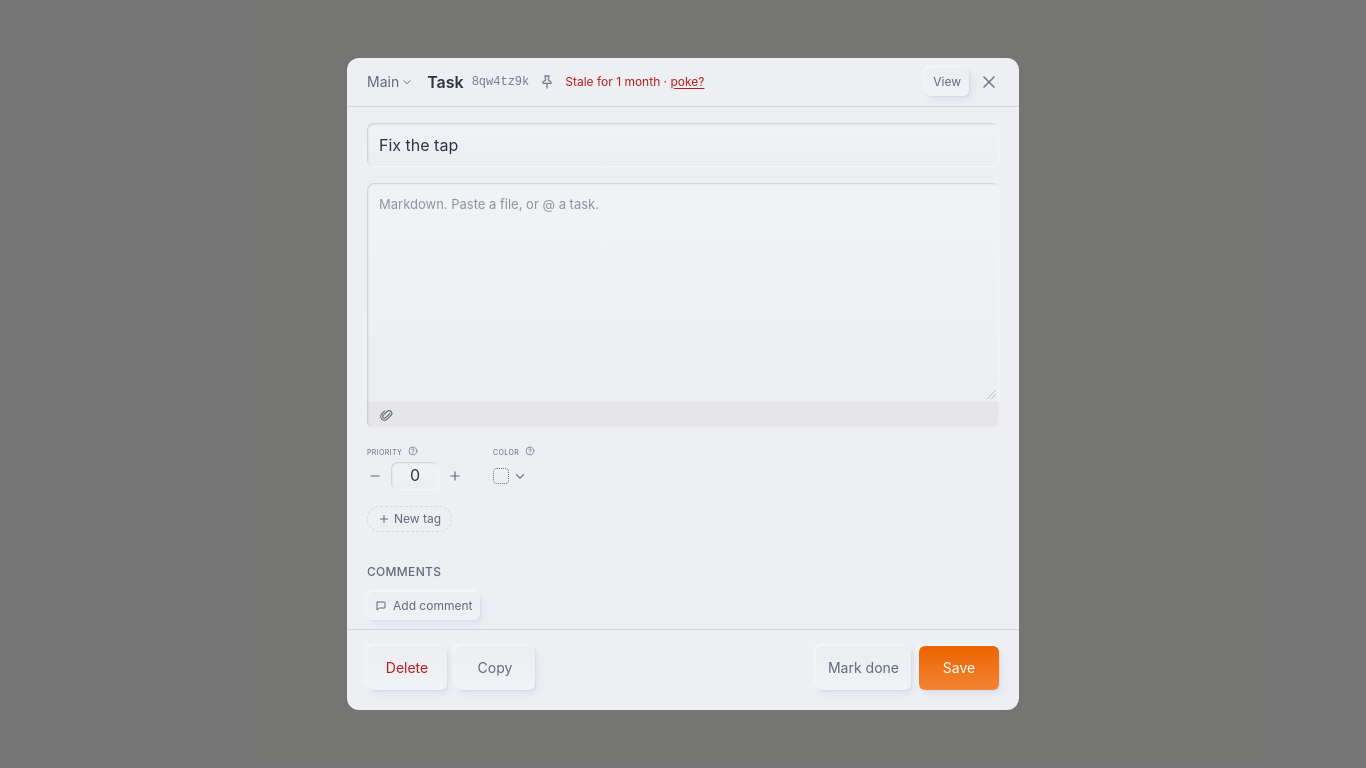
moving a task › says what a move does, where the move is chosen
Check: the text box with placeholder "Markdown. Paste a file, or @ a task." is shown, box [367,183,999,402]
Click the button "Main": (390, 82) [361,70,419,94]
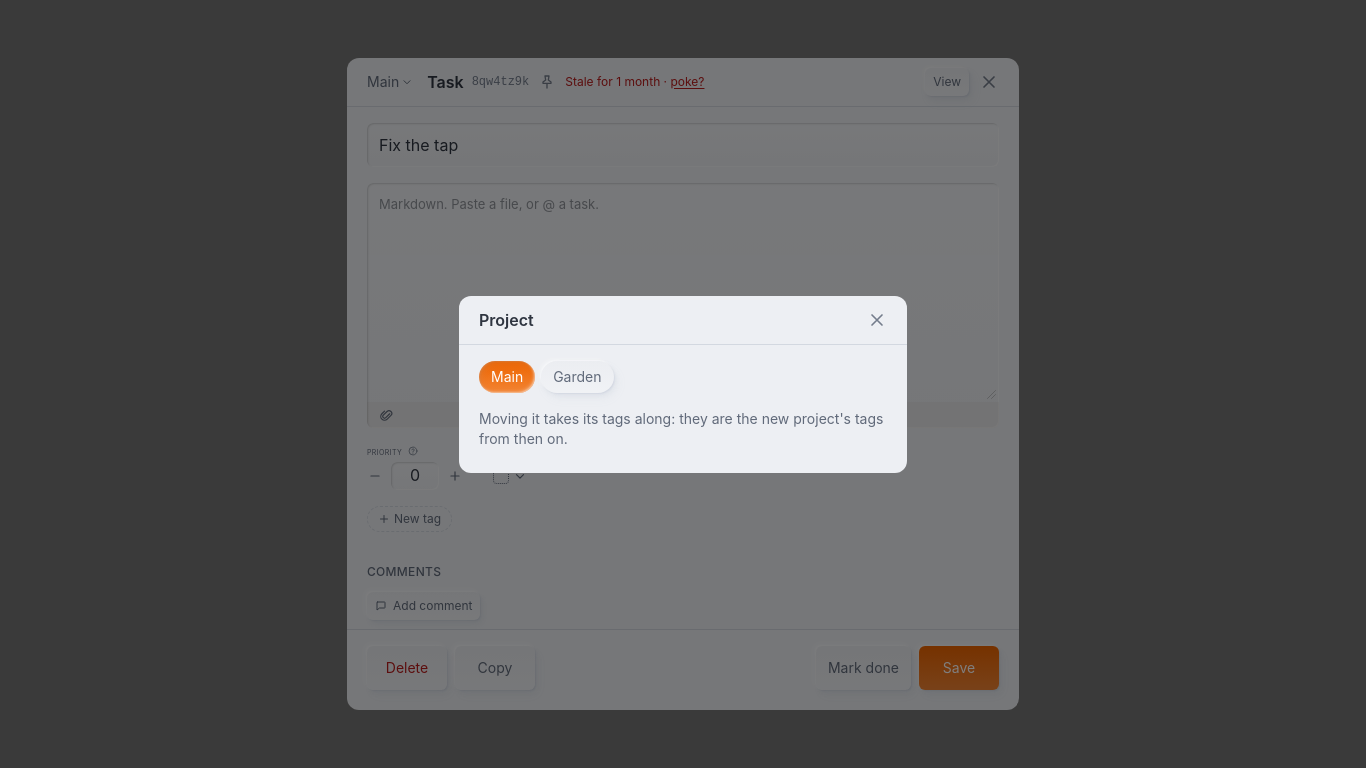
Check: the text "takes its tags along" is shown, box [479,410,883,446]
